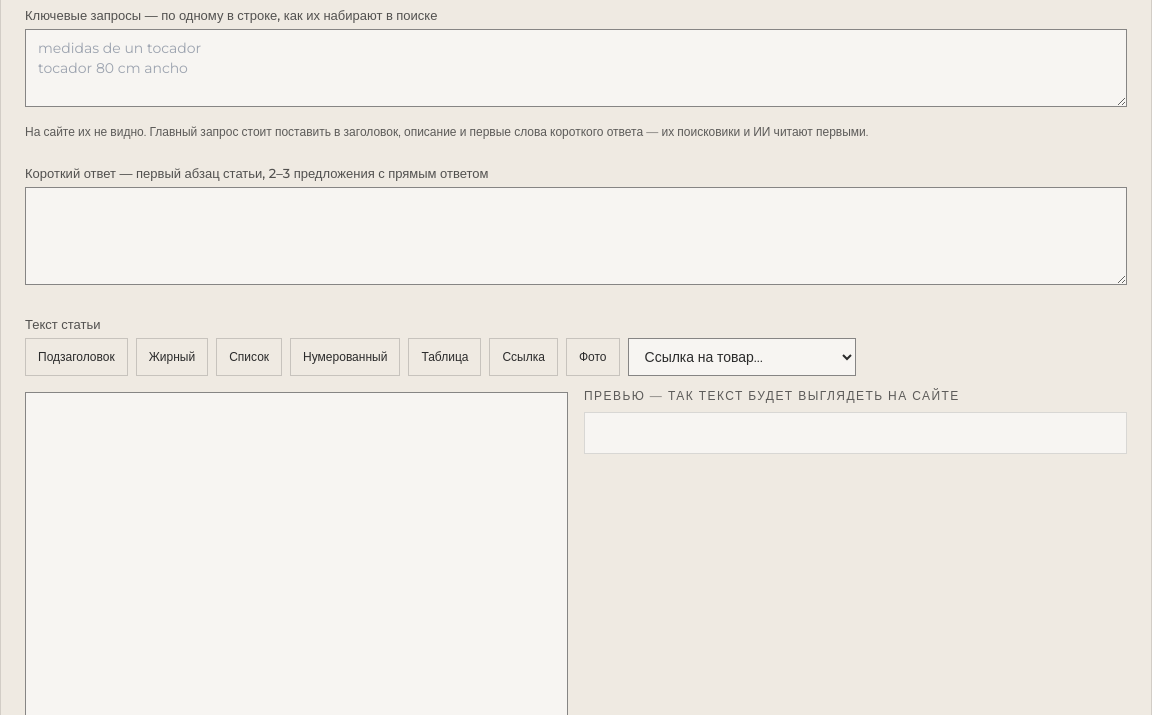
GuideEditor › links a model by its address, in its Spanish form, never one taken off the site
(page scrolled)
Select "Tocador Compacto (T-80)" in the dropdown named "Ссылка на товар" at (742, 357), box top-left (628, 338), bottom-right (856, 376)
(page scrolled)
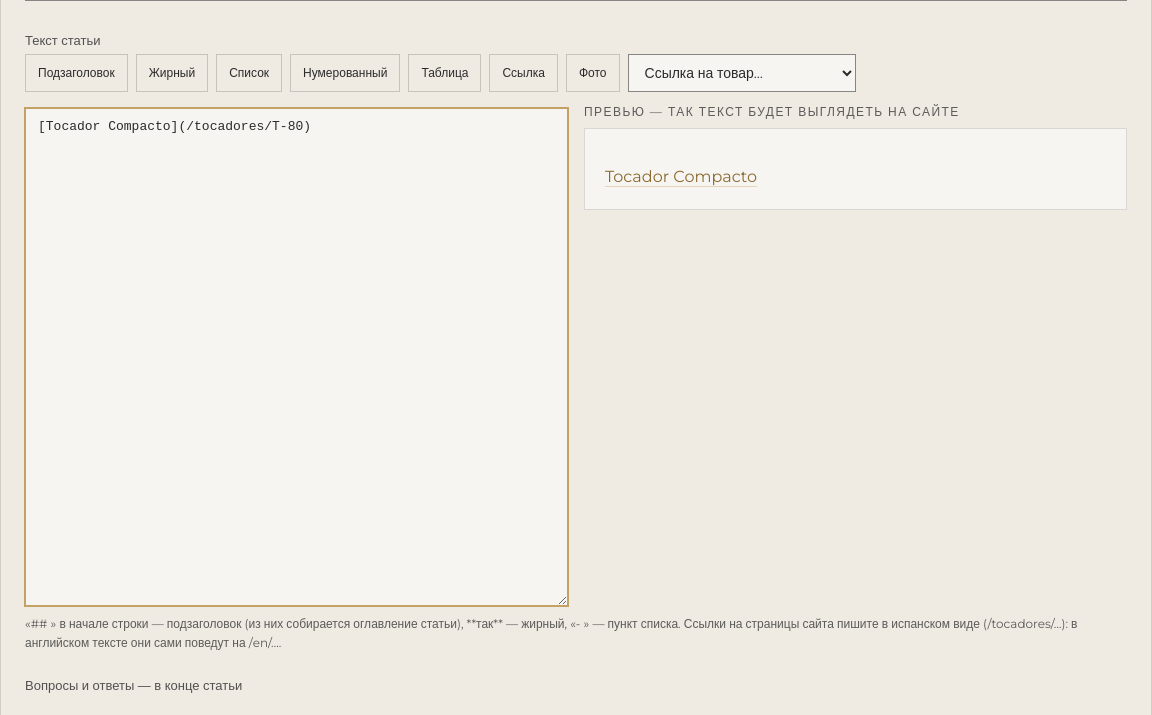
Check: the text box labelled "Текст статьи" holds "[Tocador Compacto](/tocadores/T-80)", box top-left (25, 108), bottom-right (568, 606)
